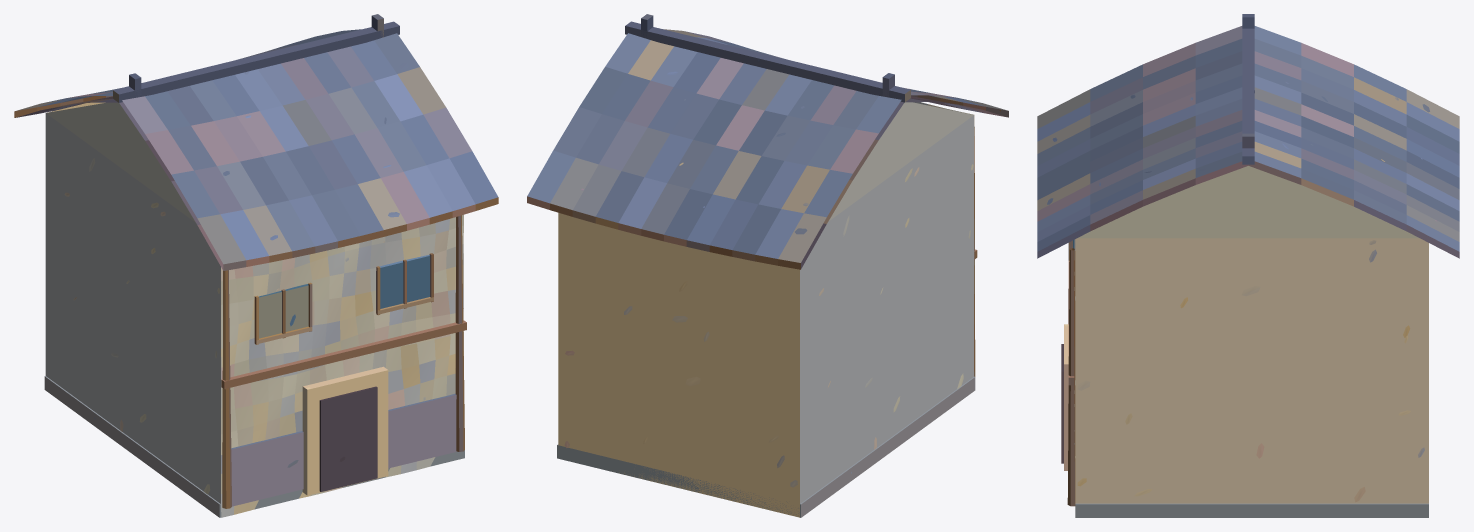
The model's file is HK_Kura.lod.glb.
The picture shows the model from 3 angles, left to right: view 1: azimuth 30°, elevation 25°; view 2: azimuth 150°, elevation 25°; view 3: azimuth 270°, elevation 25°; orthographic projection.
Visible parts, largest first — view 1: HK_Kura; view 2: HK_Kura; view 3: HK_Kura.
Part boxes in pixels (<box>): HK_Kura: <box>14,14,498,517</box>; HK_Kura: <box>527,14,1008,517</box>; HK_Kura: <box>1037,14,1459,517</box>.
Size of the model in its own units: 6.95 by 8.94 by 8.95.
